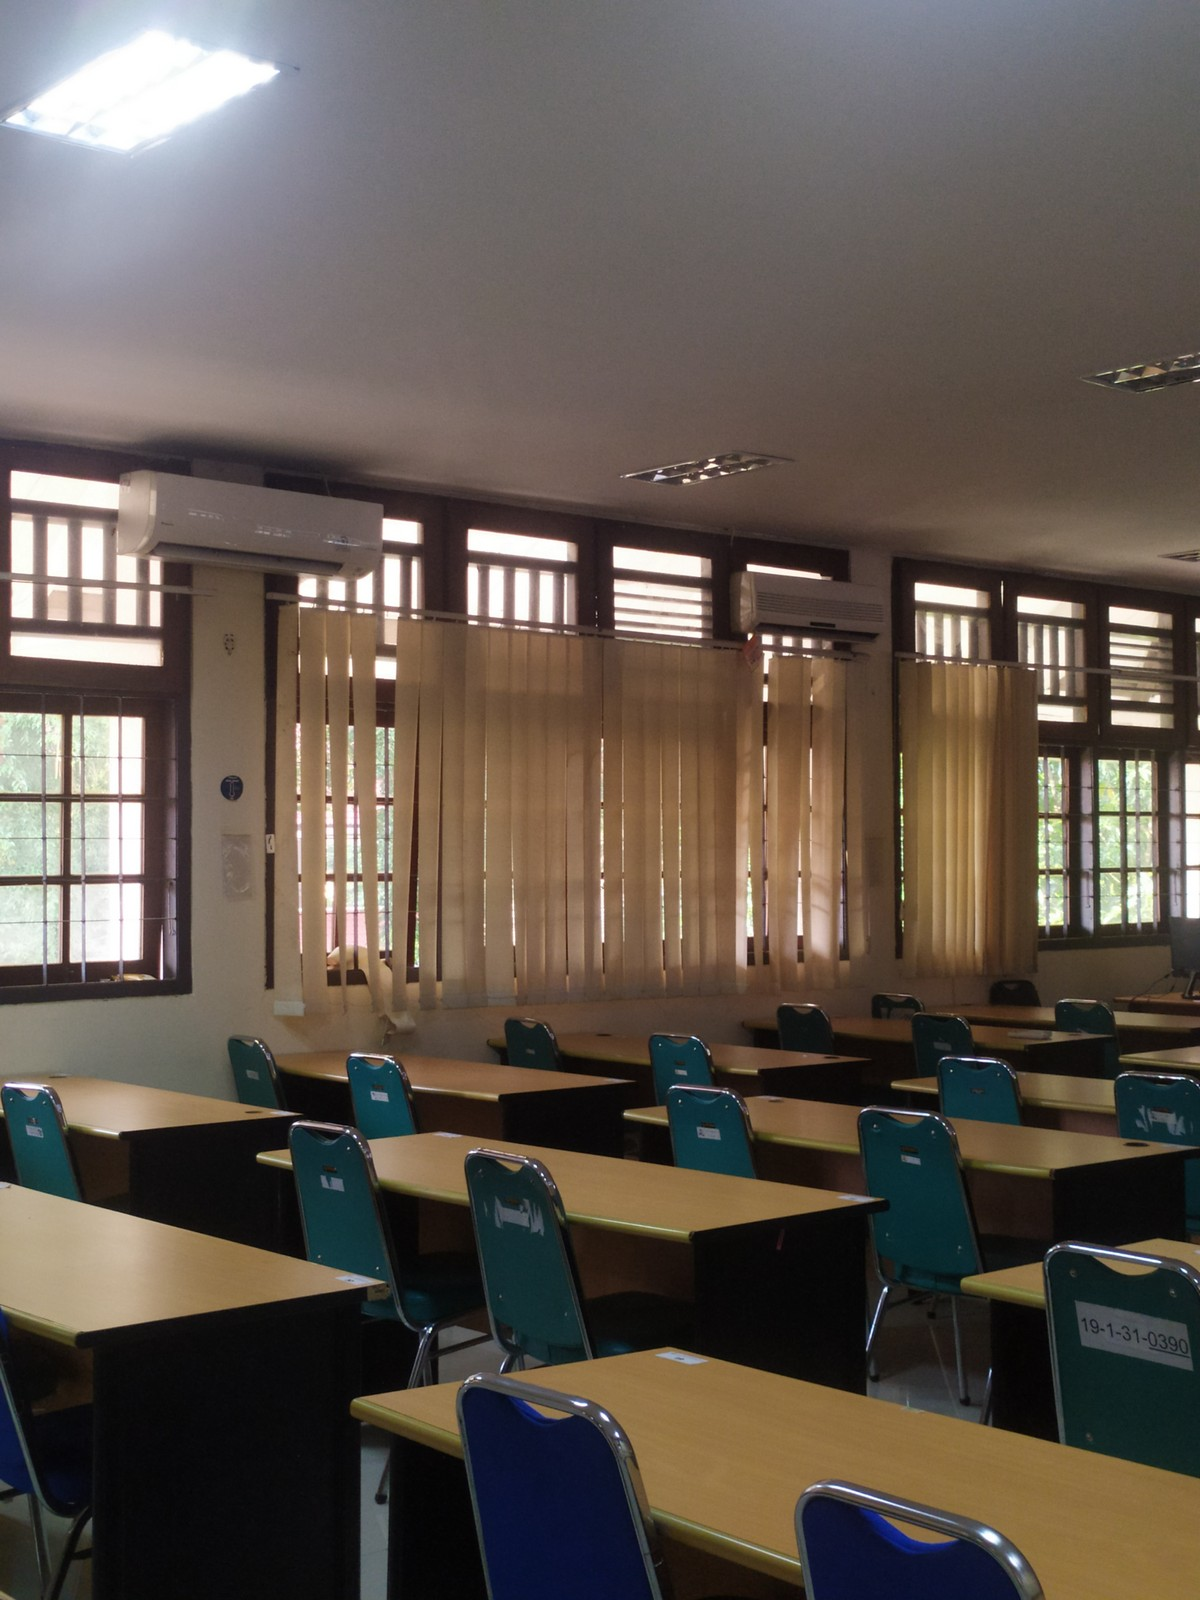concrete column: (173, 557, 280, 1089), (841, 586, 910, 994)
